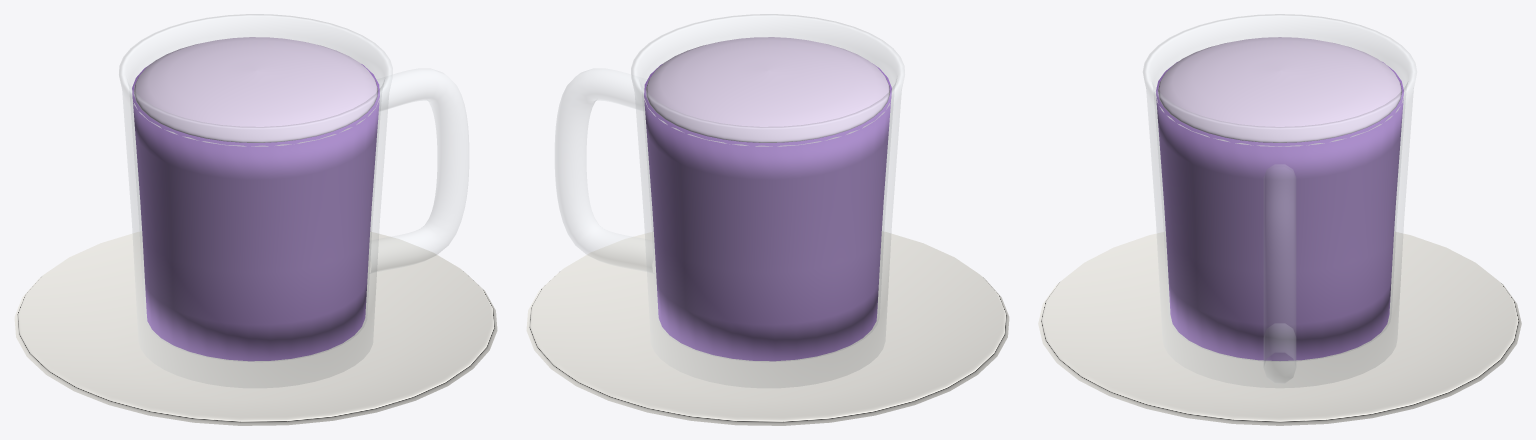
File: alba-ube-vanilla-latte.glb
3 views of the same model, side by side, from view 1: azimuth 30°, elevation 25°; view 2: azimuth 150°, elevation 25°; view 3: azimuth 270°, elevation 25° (orthographic).
Size of the model in its own units: 0.1485 by 0.0964 by 0.148.
